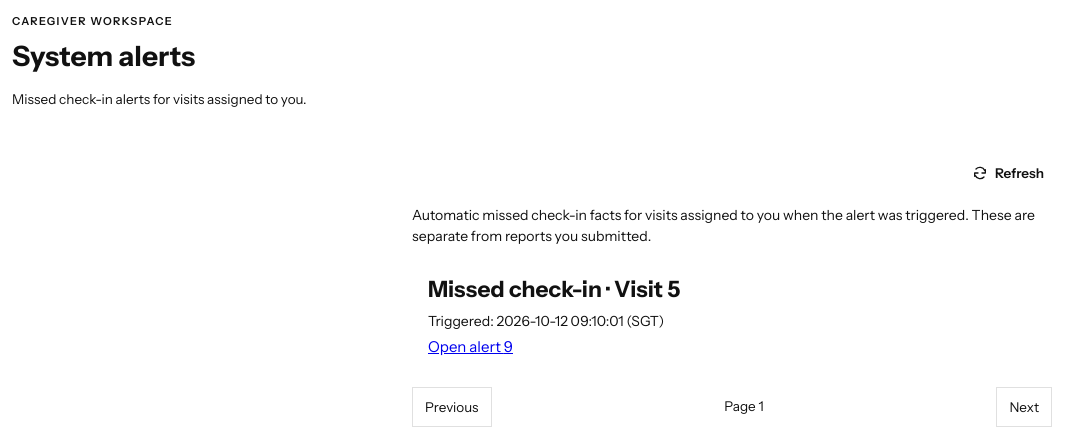
Test: separates system facts from self reports and links the notification to its safe detail
Click the link "Open alert 9": (466, 346) [428,337,513,356]
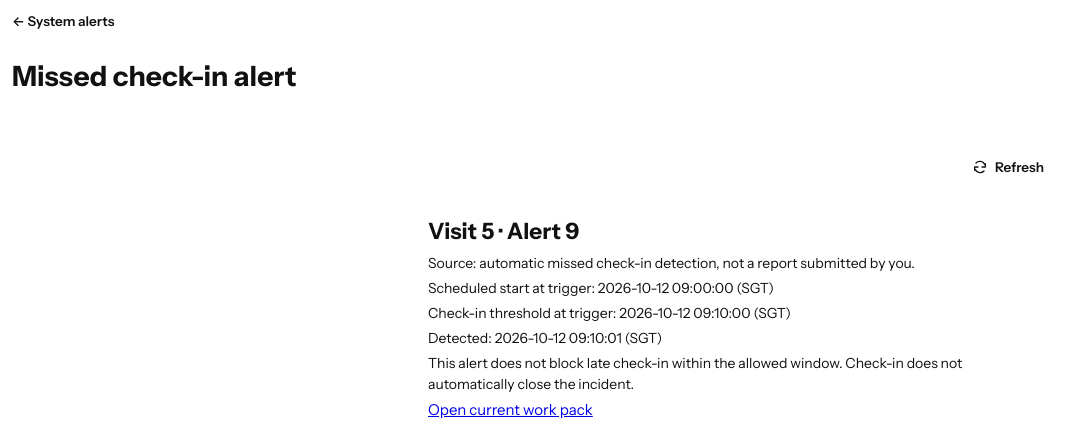
Result: the text "not a report submitted by you" is shown at [428,254,915,272]
